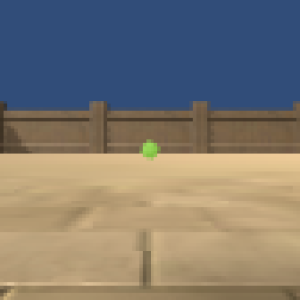goodGoal: (139, 137, 162, 160)
